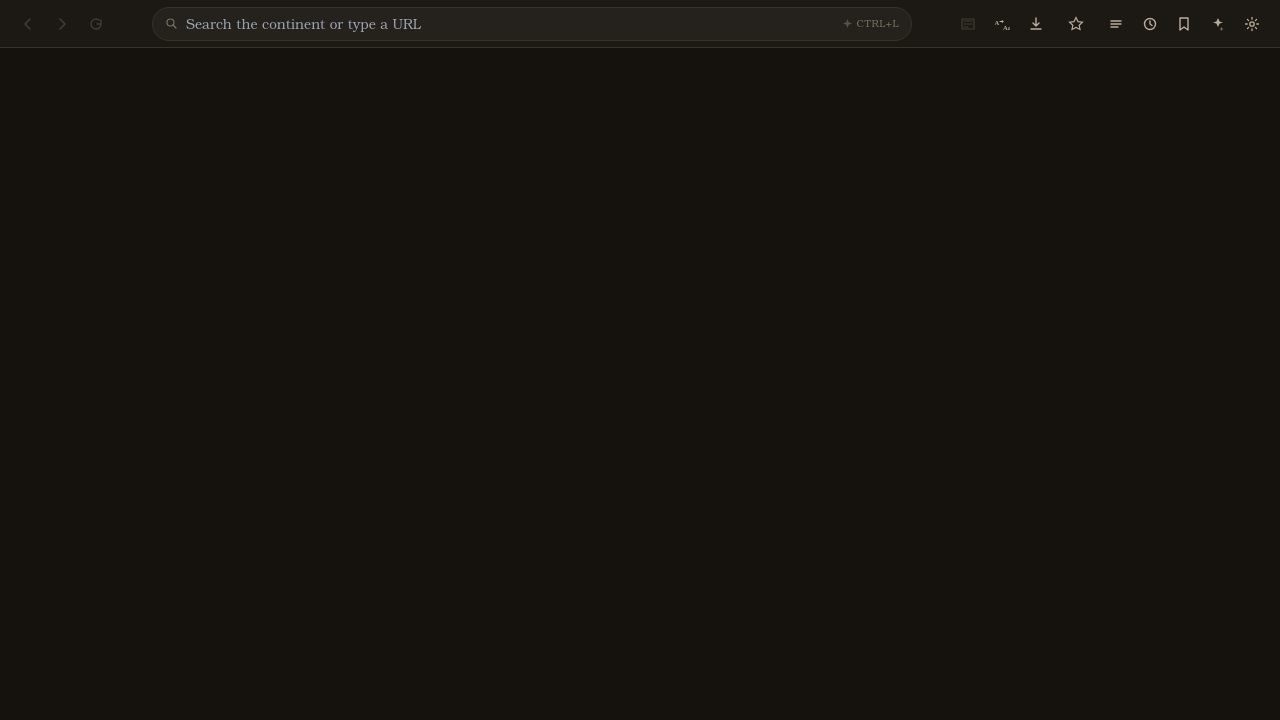
it: Omnibar Bundle-B integration › on slow + non-skip URL, opens the countdown before navigating
Type "https://example.com/article" into the field.
click(510, 24); type("https://example.com/article")  # box [186,8,834,40]
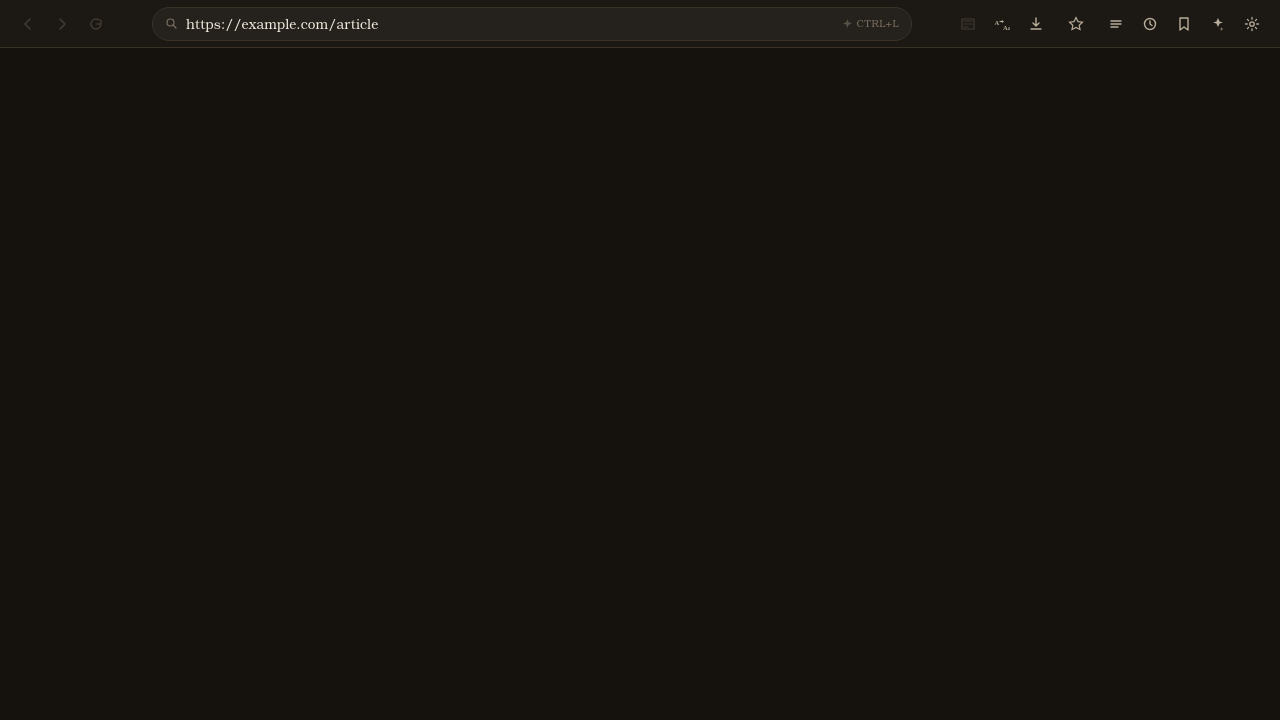
Press Enter in the field, box [186,8,834,40]
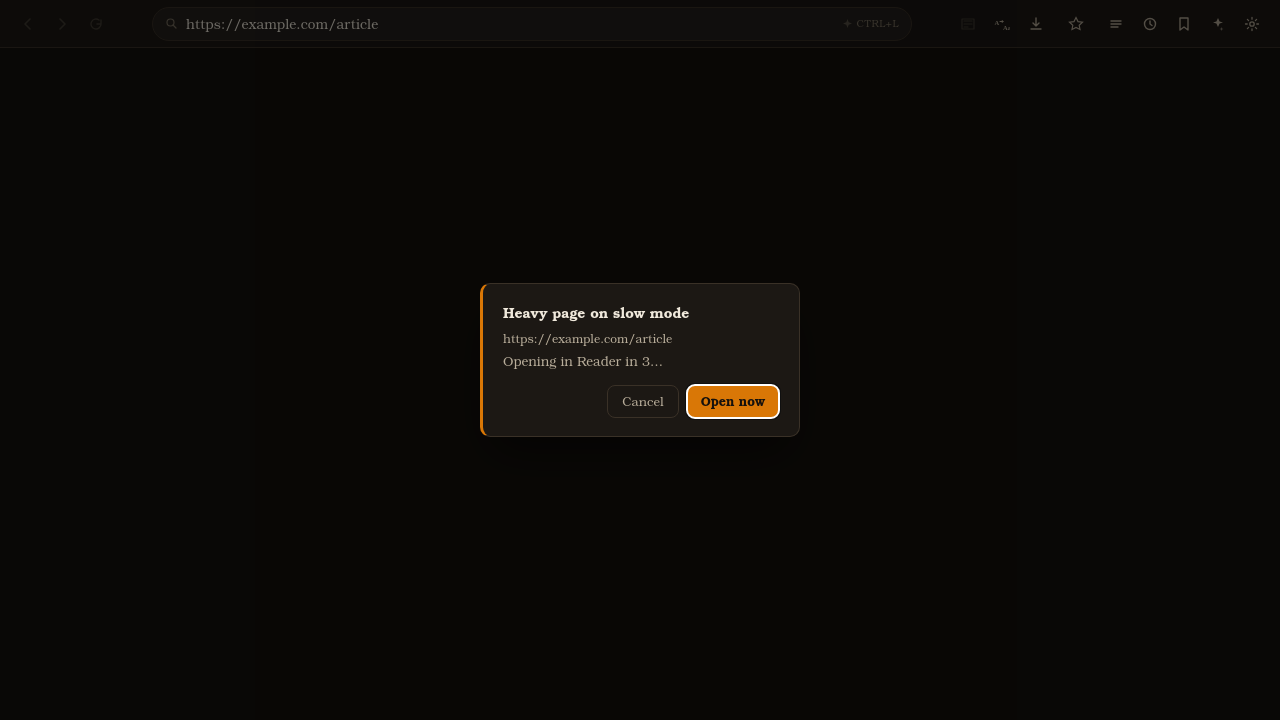
Result: the dialog "Heavy page" is shown
